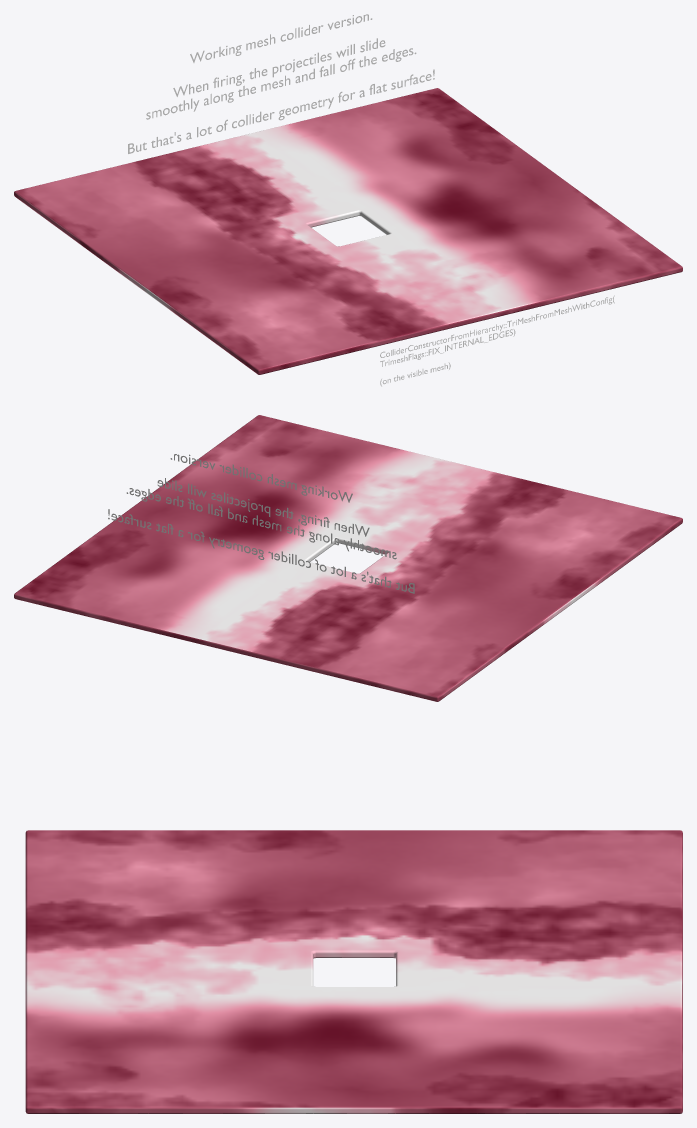
Rendered from level_0.glb.
The picture shows the model from 3 angles, top to bottom: view 1: azimuth 30°, elevation 25°; view 2: azimuth 150°, elevation 25°; view 3: azimuth 270°, elevation 25°; orthographic projection. The views are drawn at different scales.
Parts seen in each view (by area): view 1: Floor.008, Text.010, Text.009; view 2: Floor.008, Text.010; view 3: Floor.008.
Boxes of the visible parts, x1,y1,x2,y2 form: Floor.008: (14,88,682,374); Text.010: (128,14,434,153); Text.009: (380,295,614,386); Floor.008: (14,415,682,701); Text.010: (108,454,414,593); Floor.008: (25,830,682,1113).
Size of the model in its own units: 29.71 by 12.05 by 30.24.
Materials: 2 (1 with a texture image).
